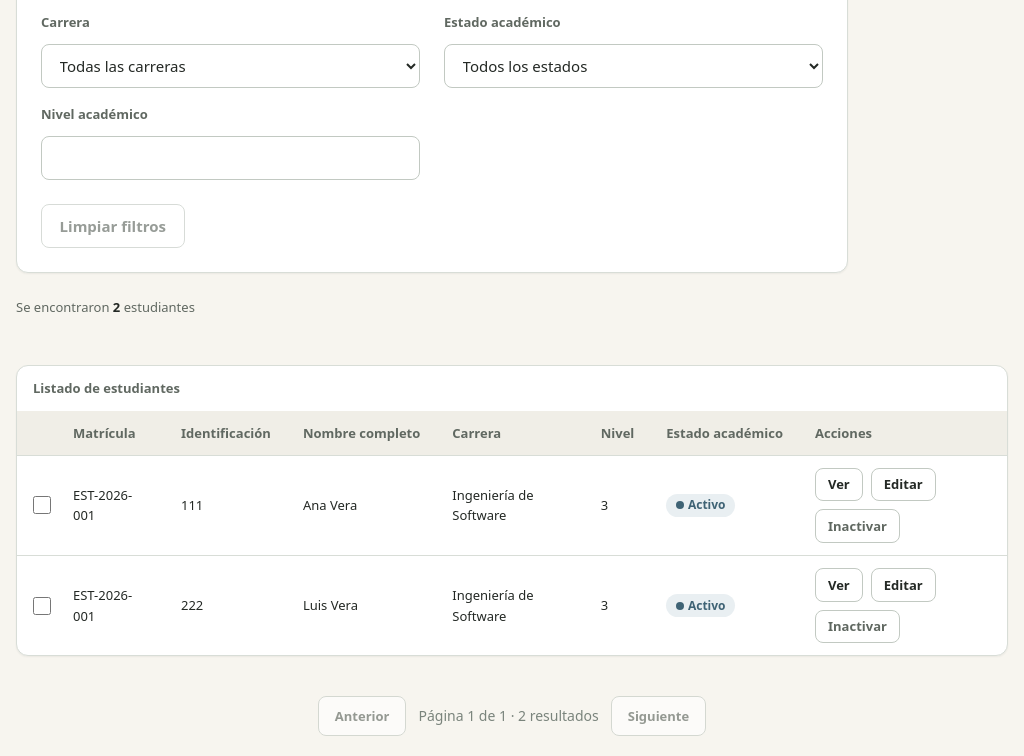
Test: ListarEstudiantesComponent › muestra la barra contextual con las acciones válidas al seleccionar
The image size is (1024, 756).
(page scrolled)
Click the cell "EST-2026-001" next to "111". click: (111, 505)
box: x1=57 y1=455 x2=165 y2=555
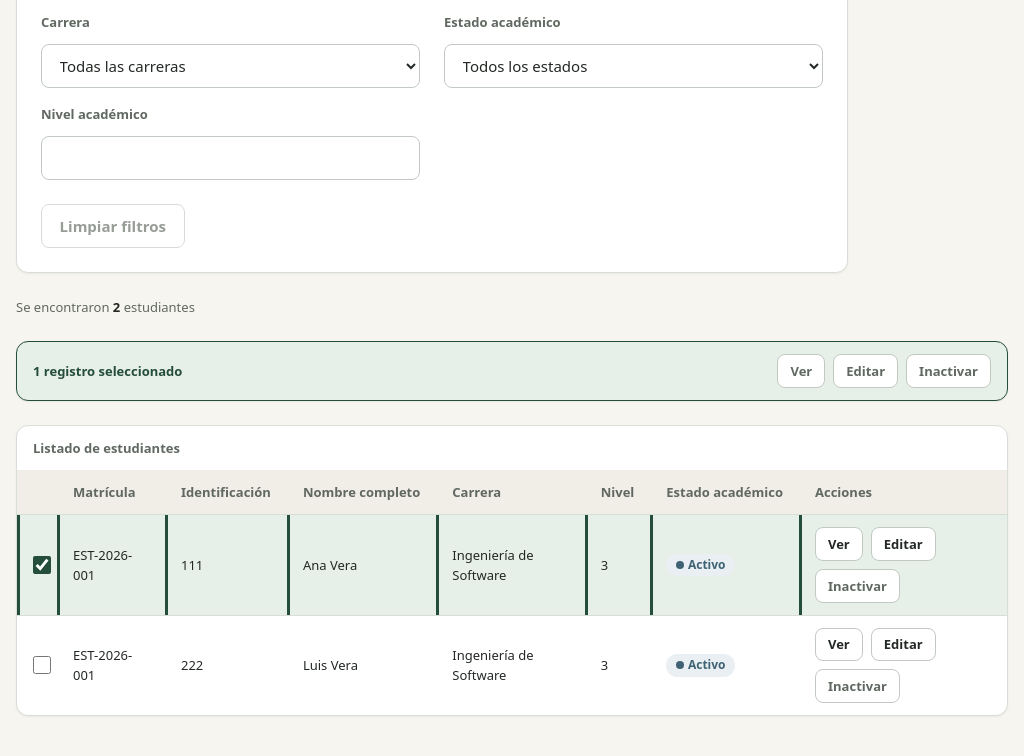
Now the text "1 registro seleccionado" is shown, box x1=33 y1=361 x2=182 y2=381
Now the button "Ver" is shown, box x1=778 y1=354 x2=825 y2=388
Now the button "Editar" is shown, box x1=833 y1=354 x2=898 y2=388
